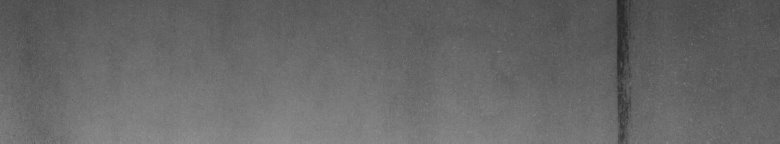hd: (608, 4, 637, 136)
